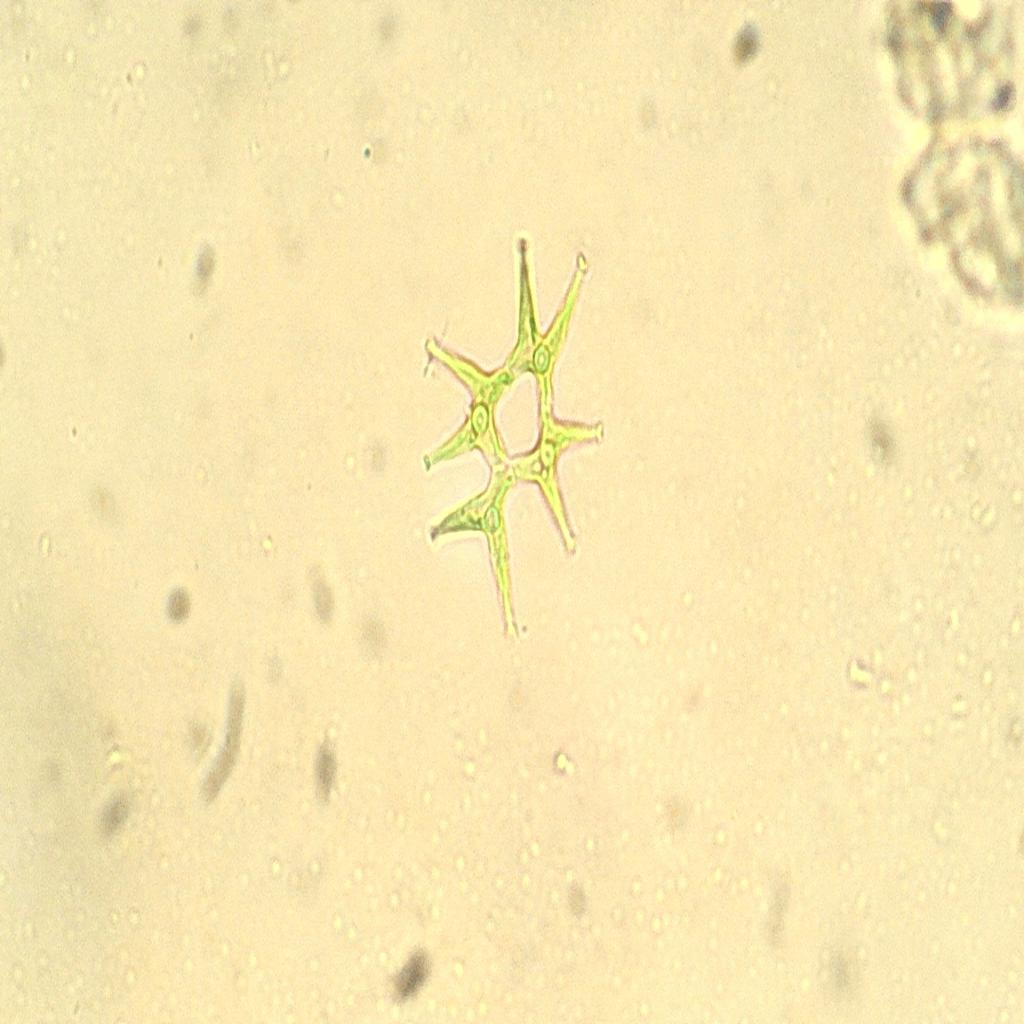Pediastrum_75FI: (407, 194, 619, 659)
